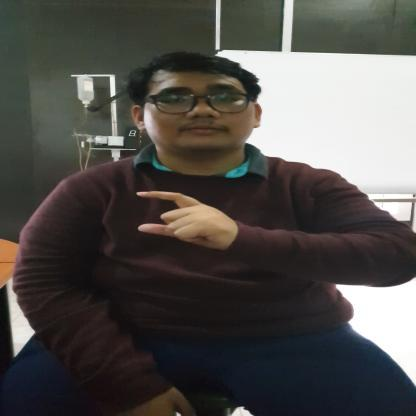C: (134, 190, 238, 247)
